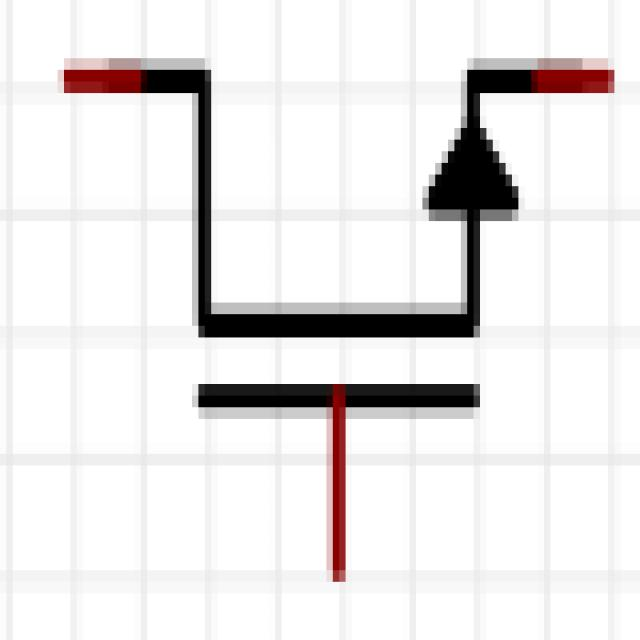nmos: (56, 14, 602, 579)
